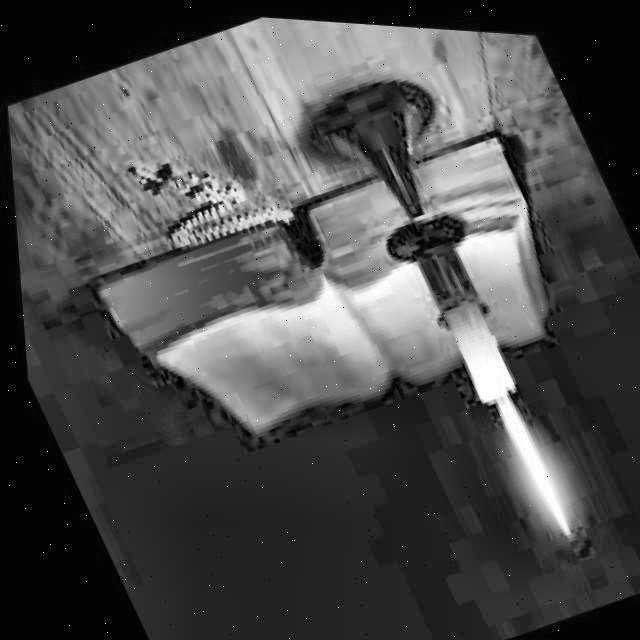Fire: (474, 378, 590, 553)
